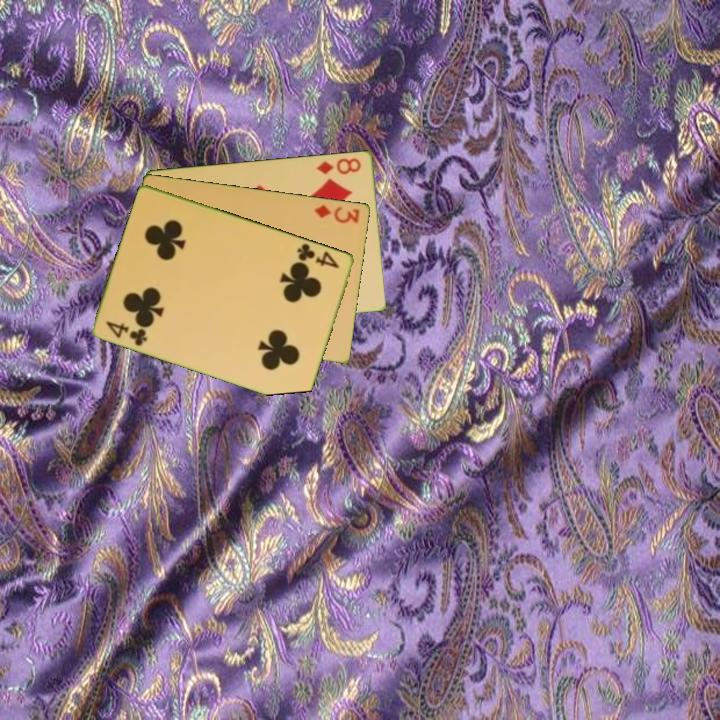3d: (311, 201, 363, 226)
4c: (103, 317, 151, 349), (294, 240, 343, 271)
8d: (313, 154, 364, 177)
